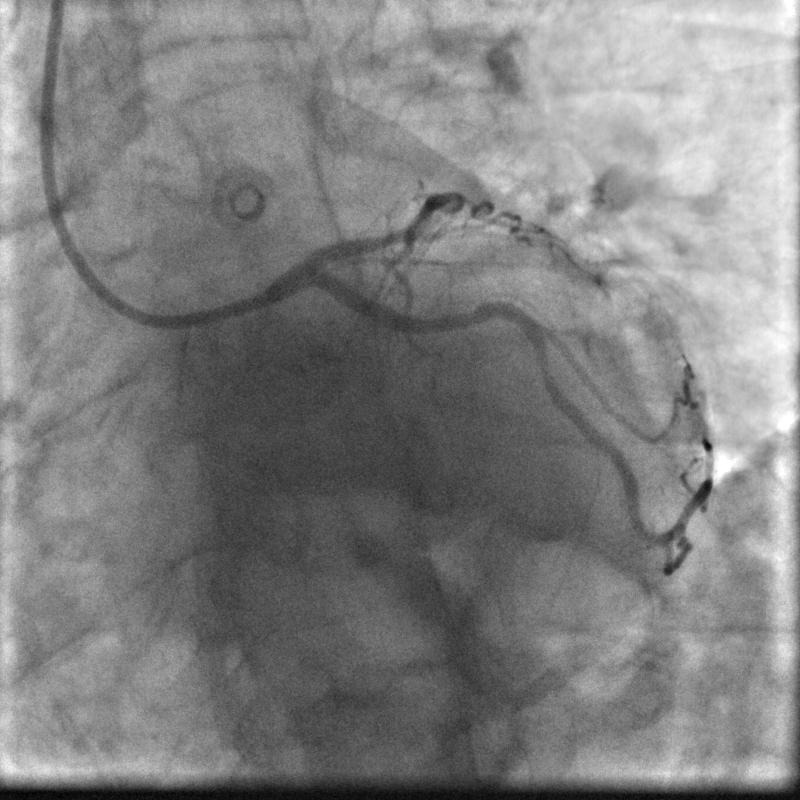Stenosis: (536, 360, 550, 382)
